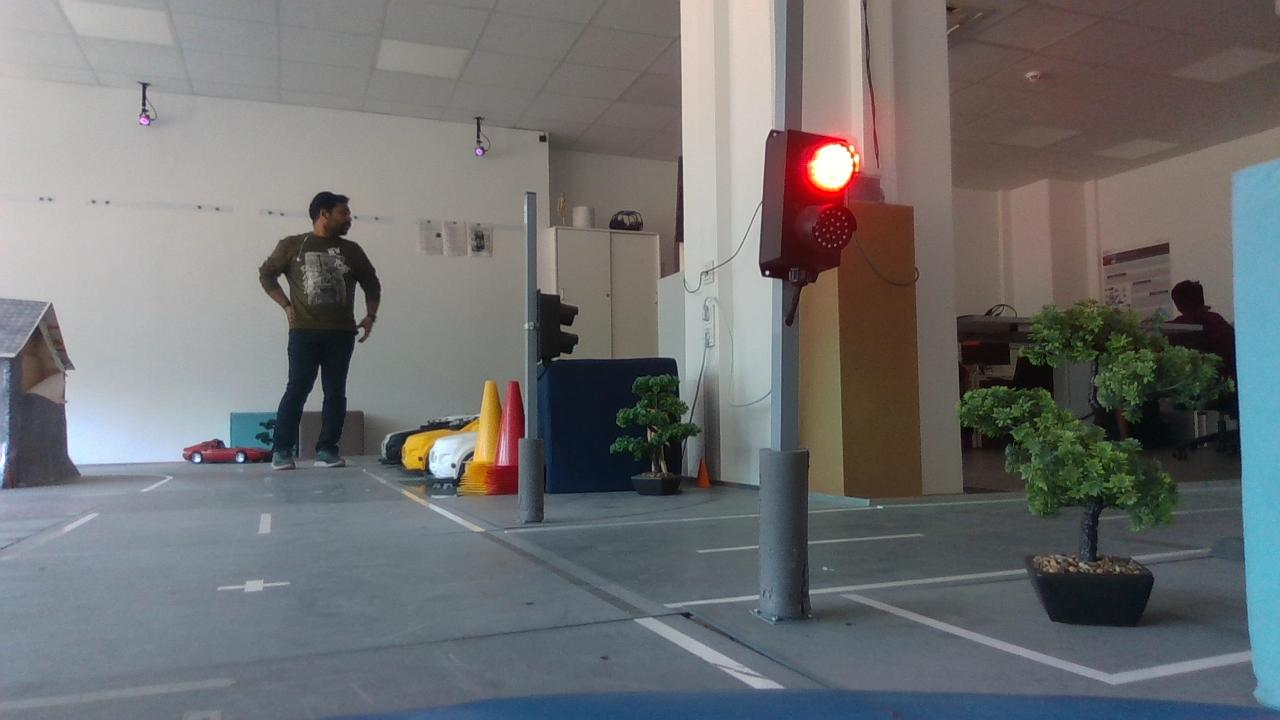traffic_light_red: (736, 113, 871, 294)
